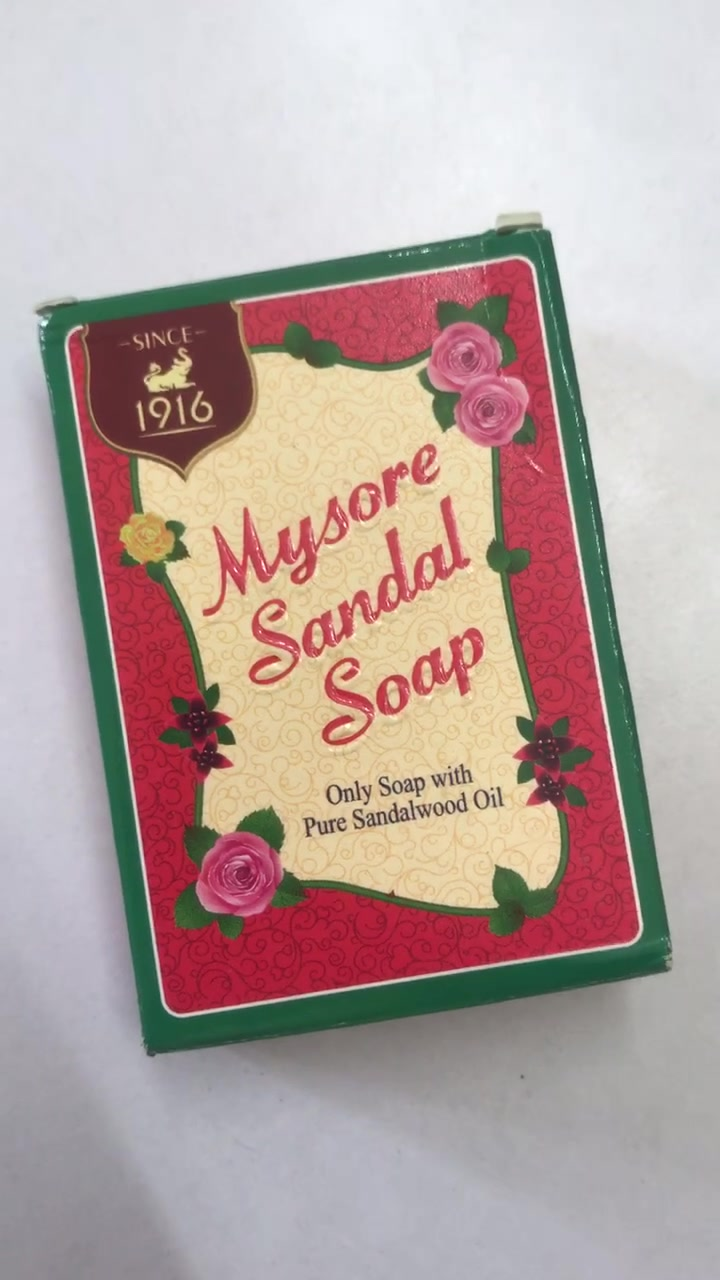mysore sandal soap: (41, 231, 671, 1057)
